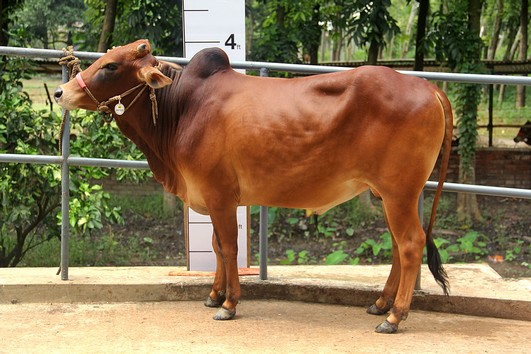cow: (49, 33, 461, 332)
